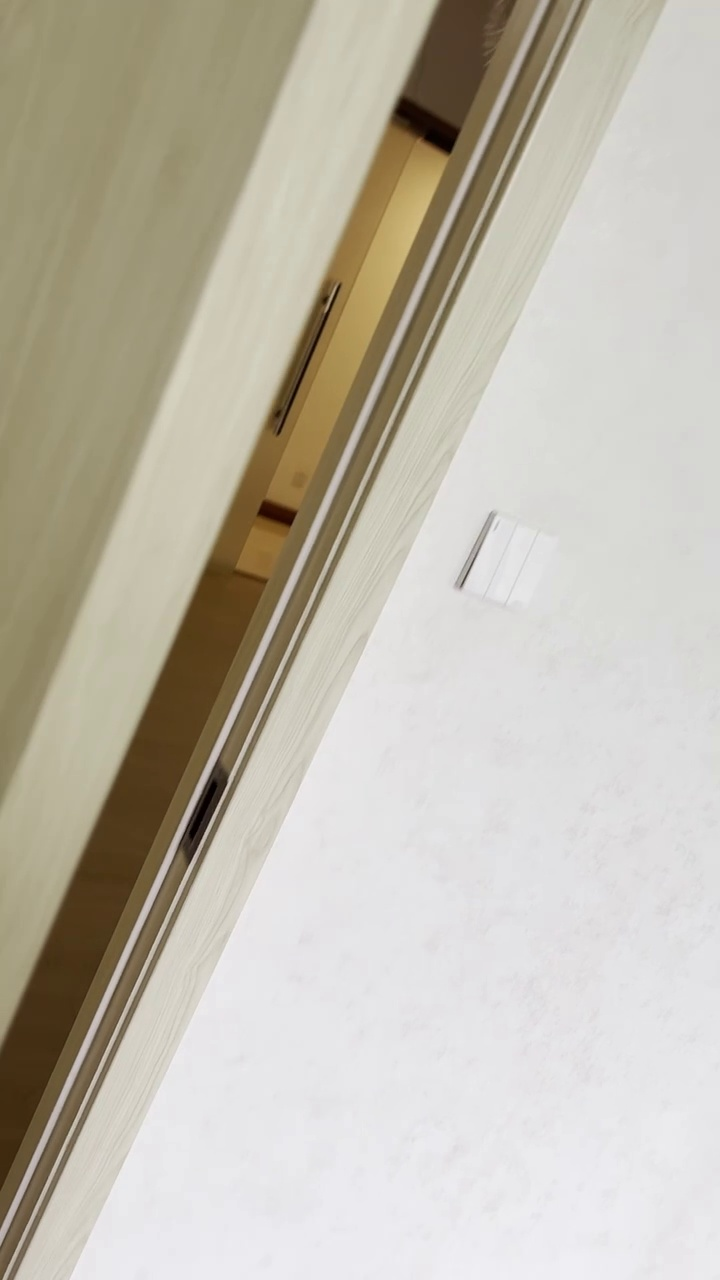button: (453, 507, 560, 615)
